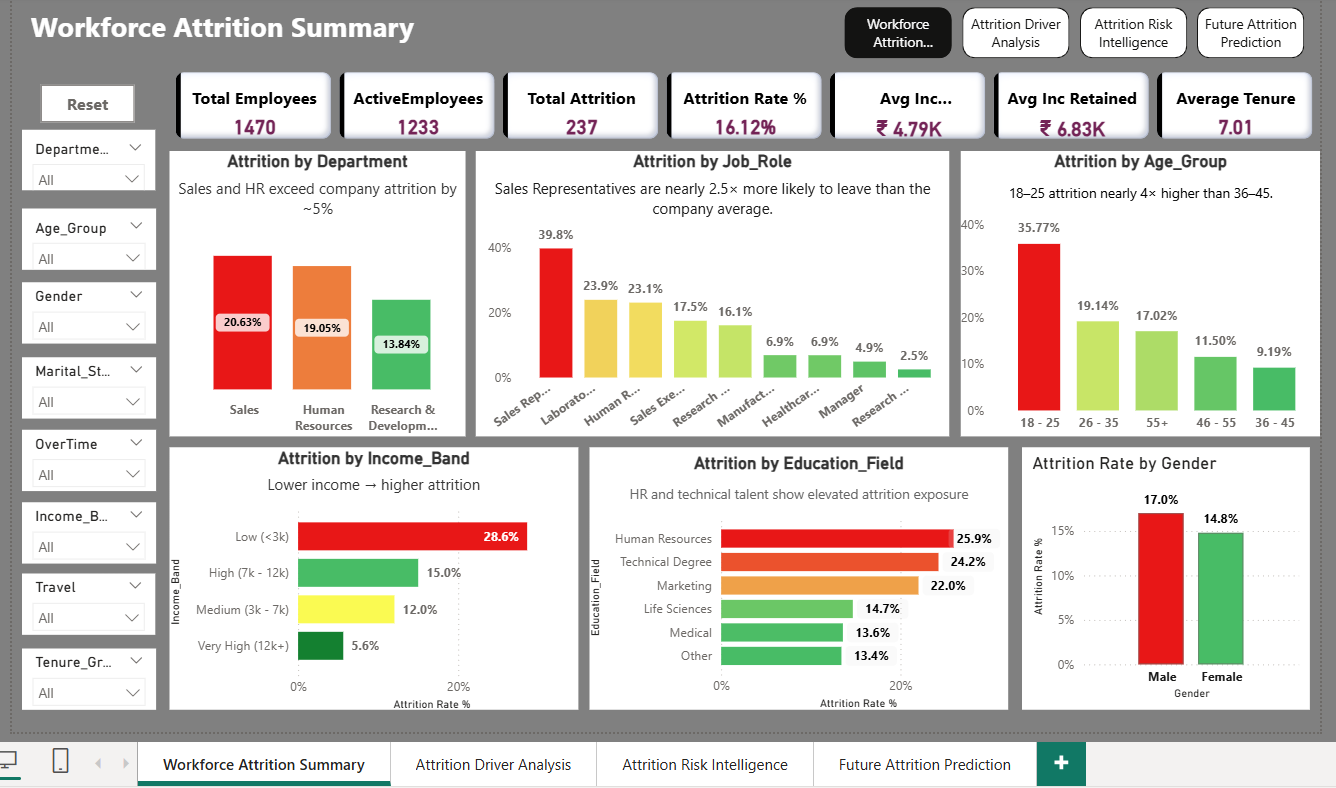

Layout of this report page (visuals, bound fields, positions):
{"tool":"powerbi","page":{"name":"Workforce Attrition Summary","canvas":[1280,720],"ordinal":0},"visuals":[{"type":"lineClusteredColumnComboChart","title":"Attrition by Department","fields":{"Category":["Attrition.Department"],"Y":["_Measure.Attrition Rate %"]},"box":[154.1,151.6,289.8,278.8],"z":0},{"type":"clusteredColumnChart","title":"Attrition by Job_Role","fields":{"Category":["Attrition.Job_Role"],"Y":["_Measure.Attrition Rate %"]},"box":[453.7,151.6,463.5,278.8],"z":1000},{"type":"columnChart","title":"Attrition Rate by Gender","fields":{"Category":["Attrition.Gender"],"Y":["_Measure.Attrition Rate %"]},"box":[988,441.4,281.3,256.8],"z":2000},{"type":"textbox","box":[13.5,6.1,626.1,45.2],"z":3000},{"type":"cardVisual","fields":{"Data":["_Measure.Employees","Attrition.Active Employees","_Measure.Total Attrition","_Measure.Attrition Rate %","_Measure.Avg Income Attrition","_Measure.Avg Income Retained","_Measure.Average Tenure"]},"box":[154.7,70.1,1125.3,75],"z":4000},{"type":"lineClusteredColumnComboChart","title":"Attrition by Age_Group","fields":{"Category":["Attrition.Age_Group"],"Y":["_Measure.Attrition Rate %"]},"box":[928.1,151.6,352.2,278.8],"z":5000},{"type":"barChart","title":"Attrition by Income_Band","fields":{"Category":["Attrition.Income_Band"],"Y":["_Measure.Attrition Rate %"]},"box":[154.1,441.4,399.9,256.8],"z":6000},{"type":"slicer","title":"All Department","fields":{"Values":["Attrition.Department"]},"box":[10,131,130,59],"z":7000},{"type":"slicer","fields":{"Values":["Attrition.Tenure_Group"]},"box":[10,638.3,130.8,59.9],"z":8000},{"type":"slicer","fields":{"Values":["Attrition.Business_Travel"]},"box":[10,564.9,130,59.9],"z":9000},{"type":"slicer","fields":{"Values":["Attrition.Income_Band"]},"box":[10,495.2,130.8,59.9],"z":10000},{"type":"slicer","fields":{"Values":["Attrition.Age_Group"]},"box":[10,207.9,130.8,59.9],"z":11000},{"type":"slicer","fields":{"Values":["Attrition.Gender"]},"box":[10,280,130.8,59.9],"z":12000},{"type":"slicer","fields":{"Values":["Attrition.Marital_Status"]},"box":[10,353.4,130.8,59.9],"z":13000},{"type":"slicer","fields":{"Values":["Attrition.OverTime"]},"box":[10,424.3,130.8,59.9],"z":14000},{"type":"actionButton","box":[28.1,86.8,91.7,36.7],"z":15000},{"type":"pageNavigator","box":[814.4,11,450,50.1],"z":16000},{"type":"barChart","title":"Attrition by Education_Field","fields":{"Category":["Attrition.Education_Field"],"Y":["_Measure.Attrition Rate %"]},"box":[564.9,441.4,409.6,256.8],"z":17000}]}

Visuals, with their boxes on the page's 1280x720 design canvas (x1, y1, x2, y2). These are canvas units, not pixel positions in the 1336x788 screenshot, which may show the page scaled, cropped or inside an application window:
"Attrition by Department" lineClusteredColumnComboChart: box=[154, 152, 444, 430]
"Attrition by Job_Role" clusteredColumnChart: box=[454, 152, 917, 430]
"Attrition Rate by Gender" columnChart: box=[988, 441, 1269, 698]
textbox: box=[14, 6, 640, 51]
cardVisual - _Measure.Employees x Attrition.Active Employees: box=[155, 70, 1280, 145]
"Attrition by Age_Group" lineClusteredColumnComboChart: box=[928, 152, 1280, 430]
"Attrition by Income_Band" barChart: box=[154, 441, 554, 698]
"All Department" slicer: box=[10, 131, 140, 190]
slicer - Attrition.Tenure_Group: box=[10, 638, 141, 698]
slicer - Attrition.Business_Travel: box=[10, 565, 140, 625]
slicer - Attrition.Income_Band: box=[10, 495, 141, 555]
slicer - Attrition.Age_Group: box=[10, 208, 141, 268]
slicer - Attrition.Gender: box=[10, 280, 141, 340]
slicer - Attrition.Marital_Status: box=[10, 353, 141, 413]
slicer - Attrition.OverTime: box=[10, 424, 141, 484]
actionButton: box=[28, 87, 120, 124]
pageNavigator: box=[814, 11, 1264, 61]
"Attrition by Education_Field" barChart: box=[565, 441, 974, 698]
